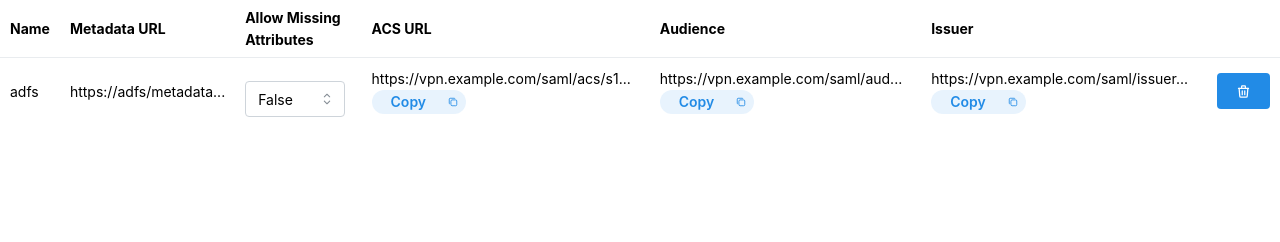
Test: ListSAMLProviders › shows the backend error when updating a provider fails
Click the field named "Allow missing attributes for adfs".
click(295, 99)  # box left=245, top=81, right=345, bottom=117
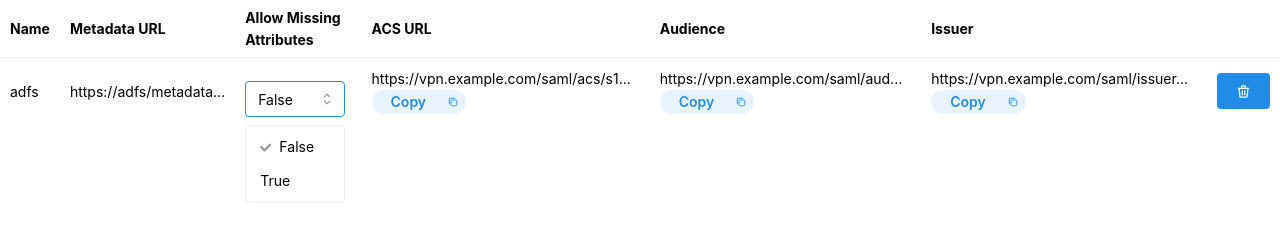
Click the option "True".
click(275, 181)  # box left=260, top=172, right=290, bottom=189
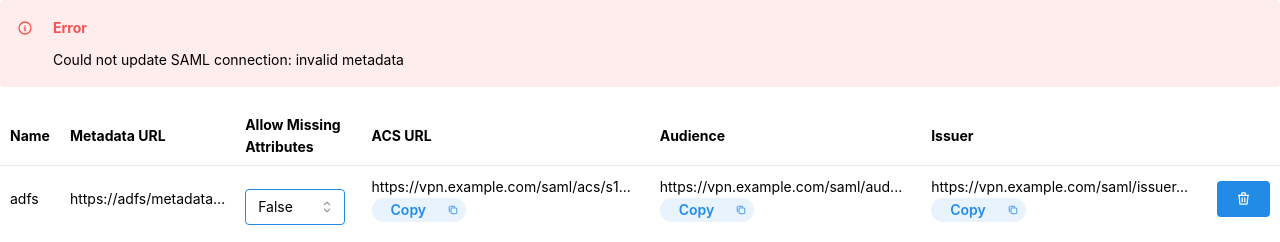
Now the text "Could not update SAML connection: invalid metadata" is shown, box left=53, top=51, right=404, bottom=68
